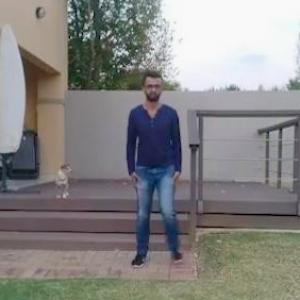follow: (126, 67, 186, 268)
